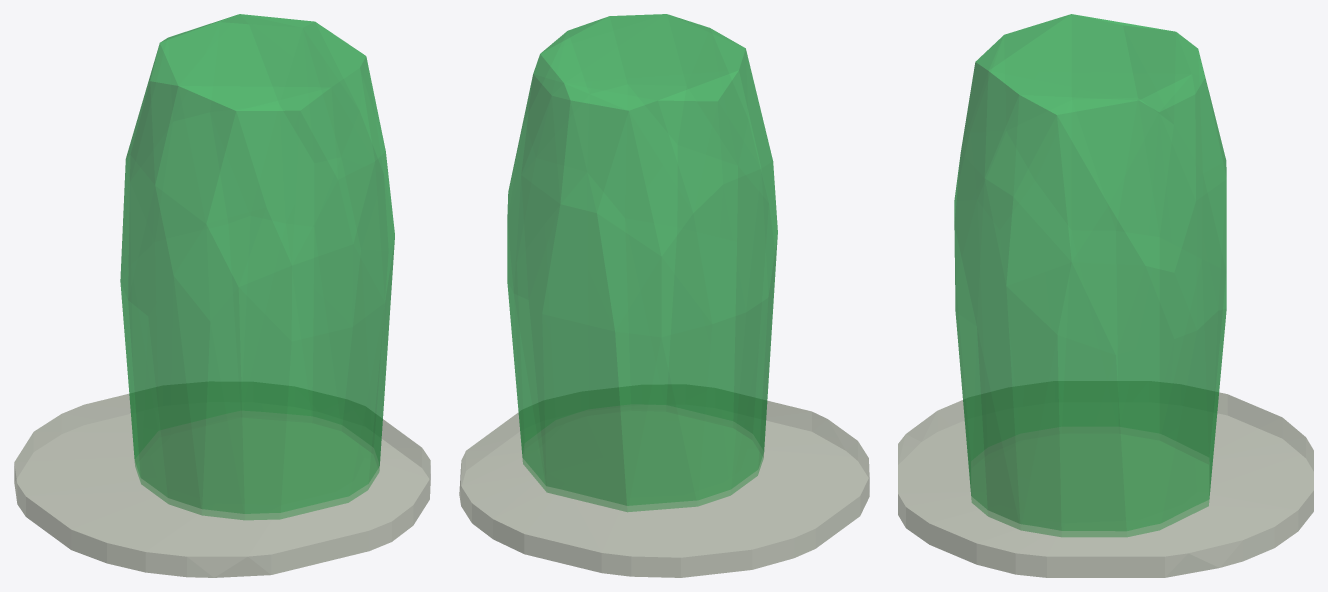
The picture shows the model from 3 angles, left to right: view 1: azimuth 30°, elevation 25°; view 2: azimuth 150°, elevation 25°; view 3: azimuth 270°, elevation 25°; orthographic projection. The views are drawn at different scales.
Visible parts, largest first — view 1: Shape_IndexedFaceSet.001, Shape_IndexedFaceSet; view 2: Shape_IndexedFaceSet.001, Shape_IndexedFaceSet; view 3: Shape_IndexedFaceSet.001, Shape_IndexedFaceSet.
Part boxes in pixels (bbox=[...]): Shape_IndexedFaceSet.001: bbox=[120, 14, 394, 519]; Shape_IndexedFaceSet: bbox=[14, 382, 430, 577]; Shape_IndexedFaceSet.001: bbox=[507, 14, 777, 511]; Shape_IndexedFaceSet: bbox=[459, 385, 869, 577]; Shape_IndexedFaceSet.001: bbox=[954, 14, 1226, 536]; Shape_IndexedFaceSet: bbox=[898, 381, 1313, 577].
Size of the model in its own units: 0.5445 by 0.6455 by 0.5445.
